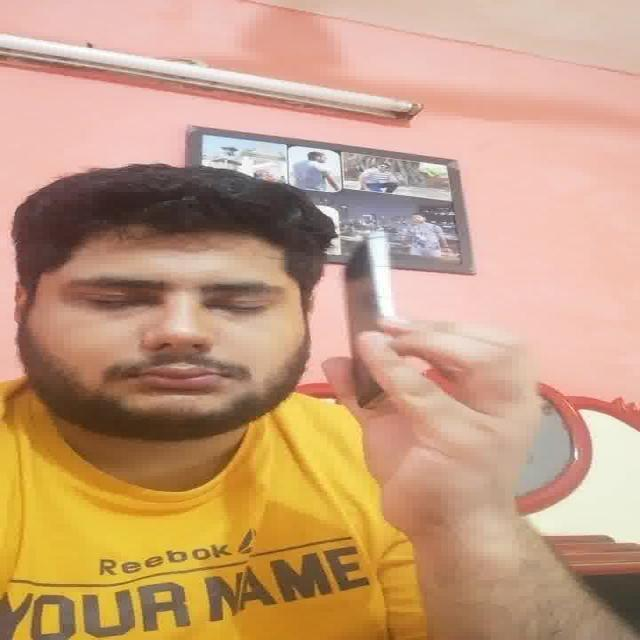Phone: (342, 229, 397, 411)
